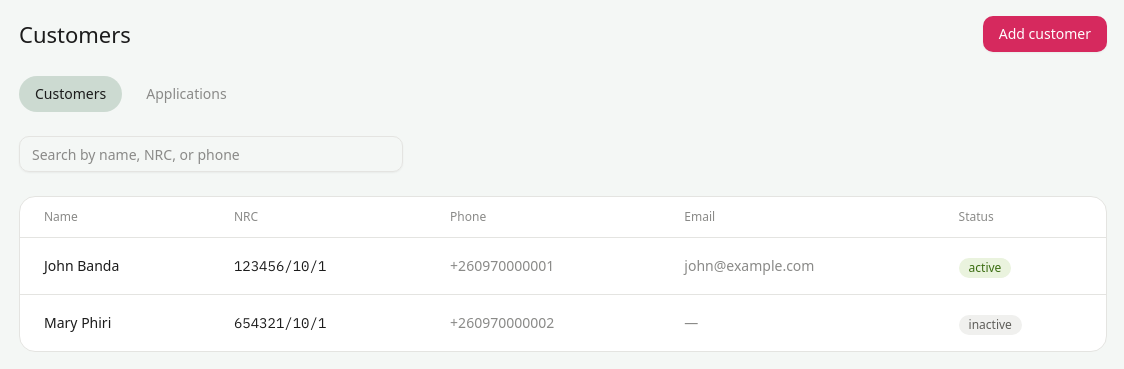
Test: CustomersPage › filters customers by search term
Expected: the text "John Banda" is shown, [20,238,210,294]
Type "Phiri" into the search field with placeholder "Search by name, NRC, or phone".
click(211, 154); type("Phiri")  # box [19,136,403,172]
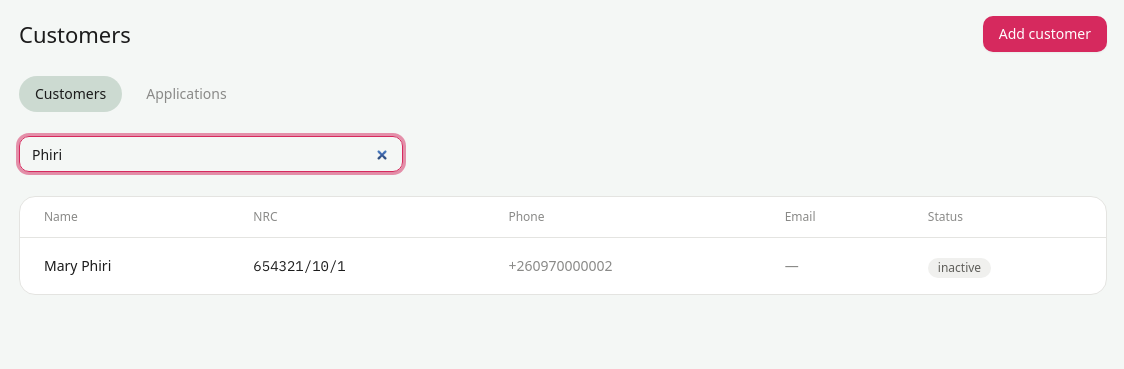
Expected: the text "Mary Phiri" is shown, [20,238,229,294]
Expected: the text "John Banda" is gone
